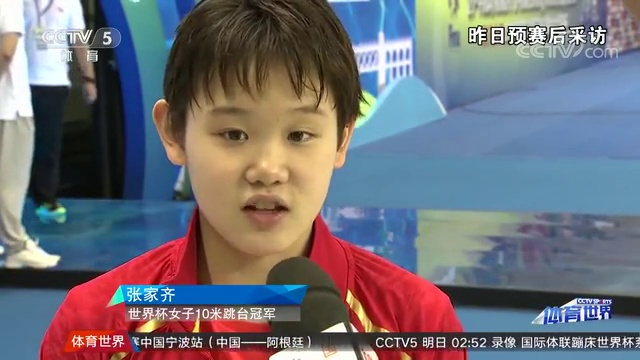face: (187, 65, 334, 248)
